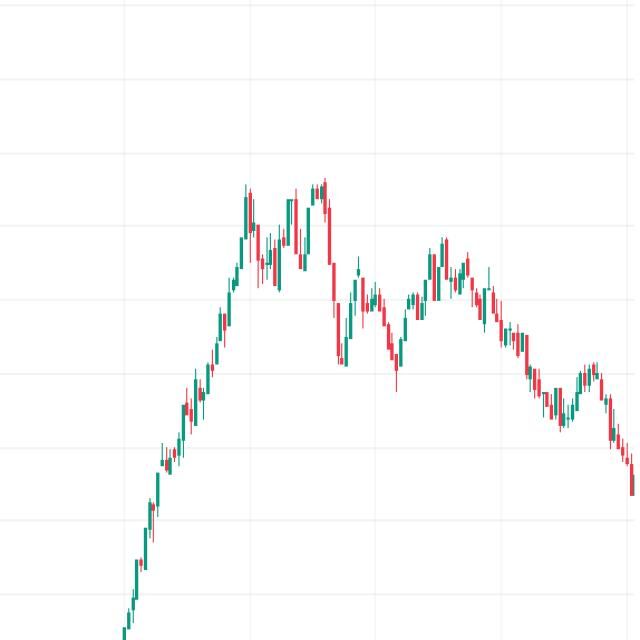Triple-Top: (232, 156, 343, 292)
